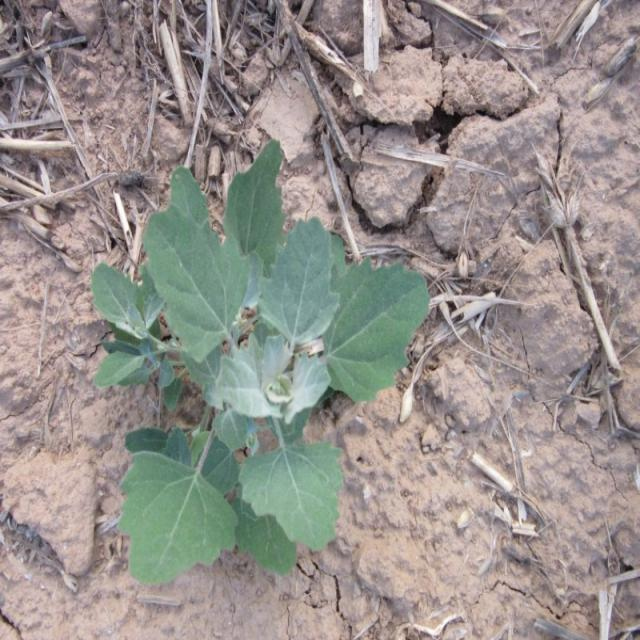ca: (93, 136, 433, 586)
